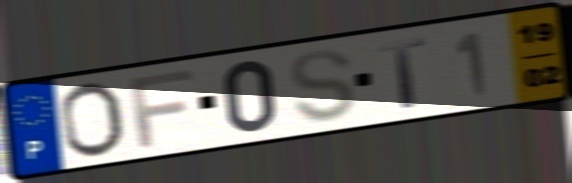0: (220, 57, 280, 135)
1: (454, 28, 489, 99)
F: (125, 67, 197, 150)
O: (57, 80, 129, 162)
S: (286, 47, 360, 125)
T: (375, 35, 430, 111)
